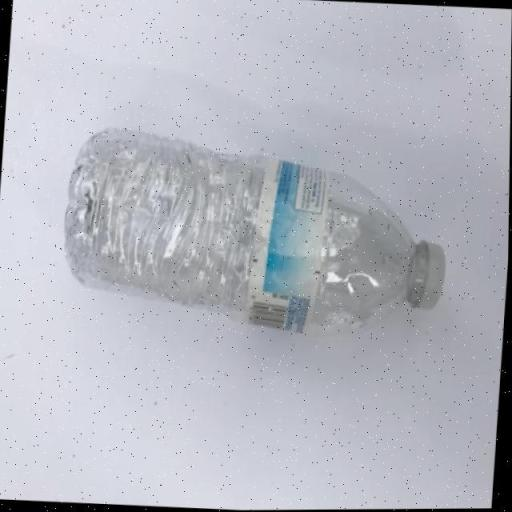plastic: (65, 130, 445, 332)
